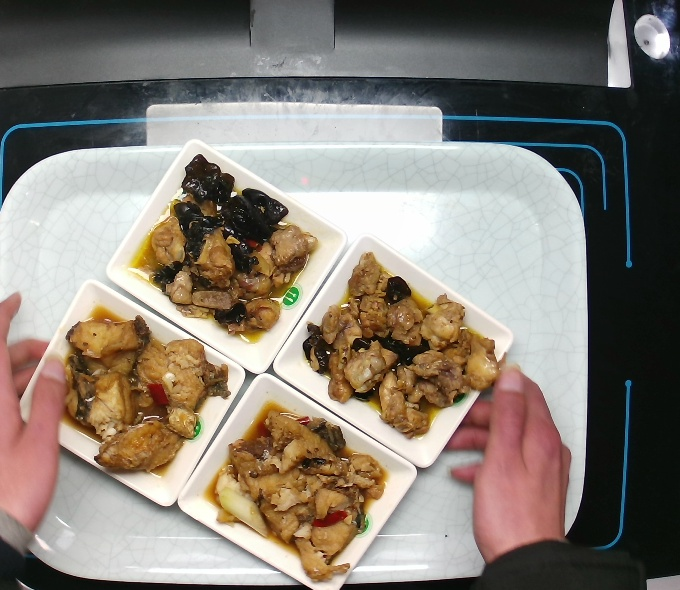wcq-MuErRouKuai: (296, 253, 500, 445), (133, 154, 324, 351)
wcq-YuKuai: (50, 309, 237, 490), (199, 400, 386, 581)
